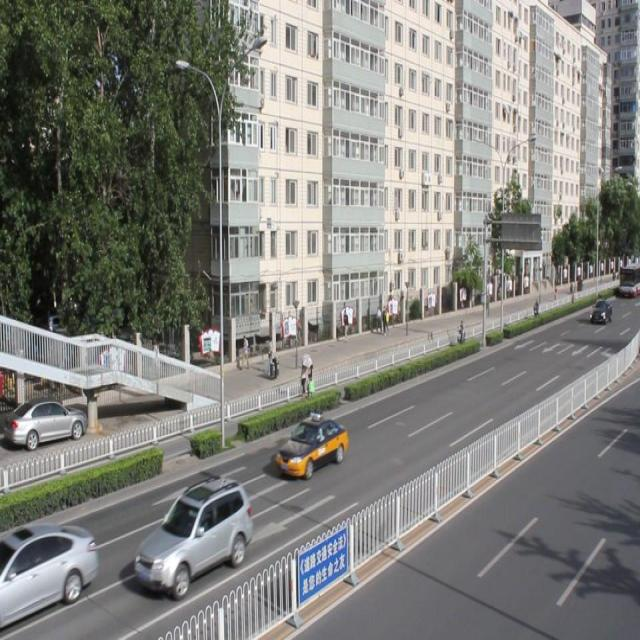car: (133, 474, 252, 595), (1, 519, 100, 619), (274, 412, 347, 476)
